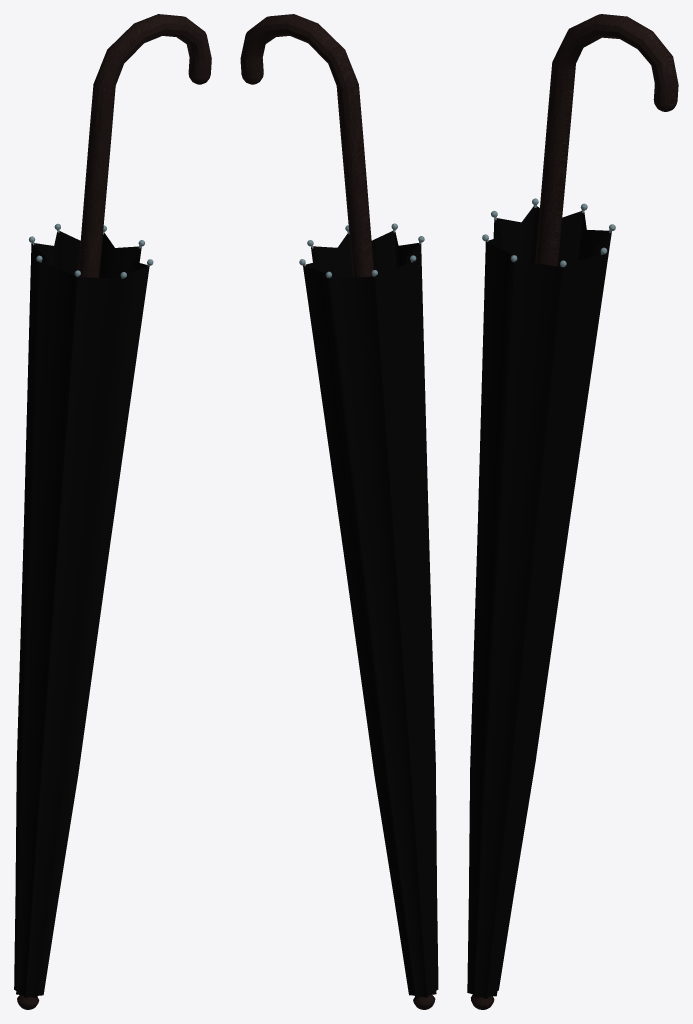
The model's file is umbrella4.fbx.
The picture shows the model from 3 angles, left to right: view 1: azimuth 30°, elevation 25°; view 2: azimuth 150°, elevation 25°; view 3: azimuth 330°, elevation 25°; orthographic projection. The views are drawn at different scales.
Visible parts, largest first — view 1: umbrella; view 2: umbrella; view 3: umbrella.
Boxes of the visible parts, left/top/right/bottom form: umbrella: left=14, top=14, right=211, bottom=1009; umbrella: left=240, top=14, right=438, bottom=1009; umbrella: left=467, top=14, right=678, bottom=1009.
Size of the model in its own units: 0.00931 by 0.044 by 0.00574.
Materials: 3 (1 with a texture image).
